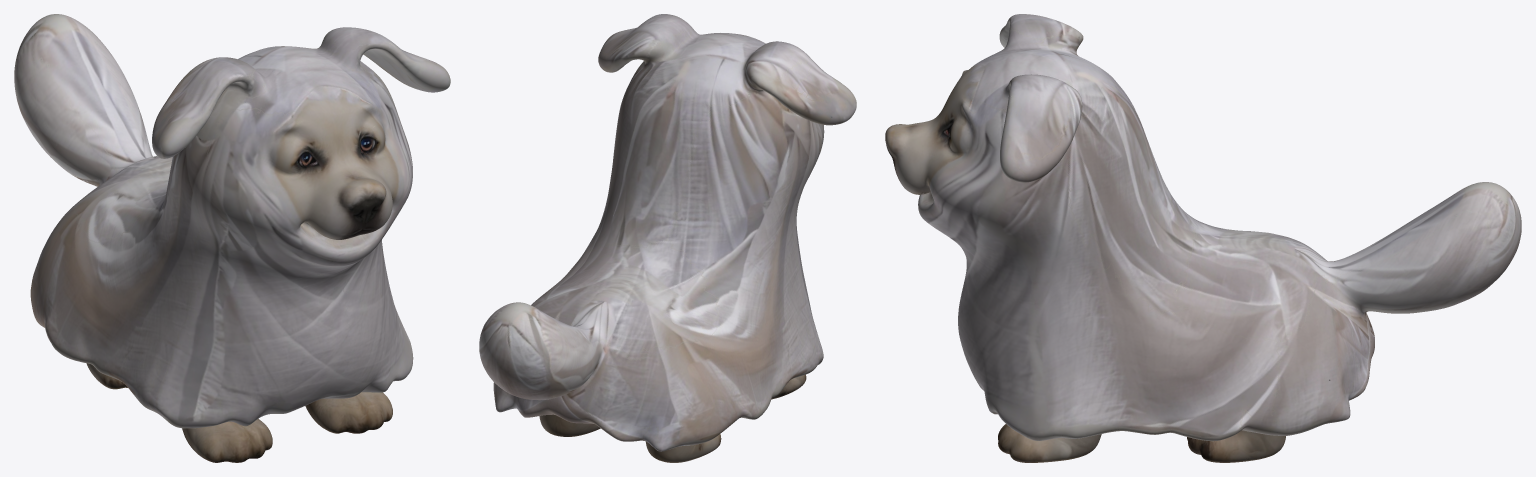
File: cute_dog_ghost.glb
3 renders of one model, left to right at view 1: azimuth 30°, elevation 25°; view 2: azimuth 150°, elevation 25°; view 3: azimuth 270°, elevation 25°, orthographic. The views are drawn at different scales.
Parts seen in each view (by area): view 1: Object_4; view 2: Object_4; view 3: Object_4.
Boxes of the visible parts, box(x1,y1,x2,y2) form: Object_4: box(14, 14, 450, 462); Object_4: box(479, 14, 856, 462); Object_4: box(885, 14, 1521, 462).
Bounding box in the file's own units: 1.01 × 1.3 × 2.
1 material, 1 textured.
